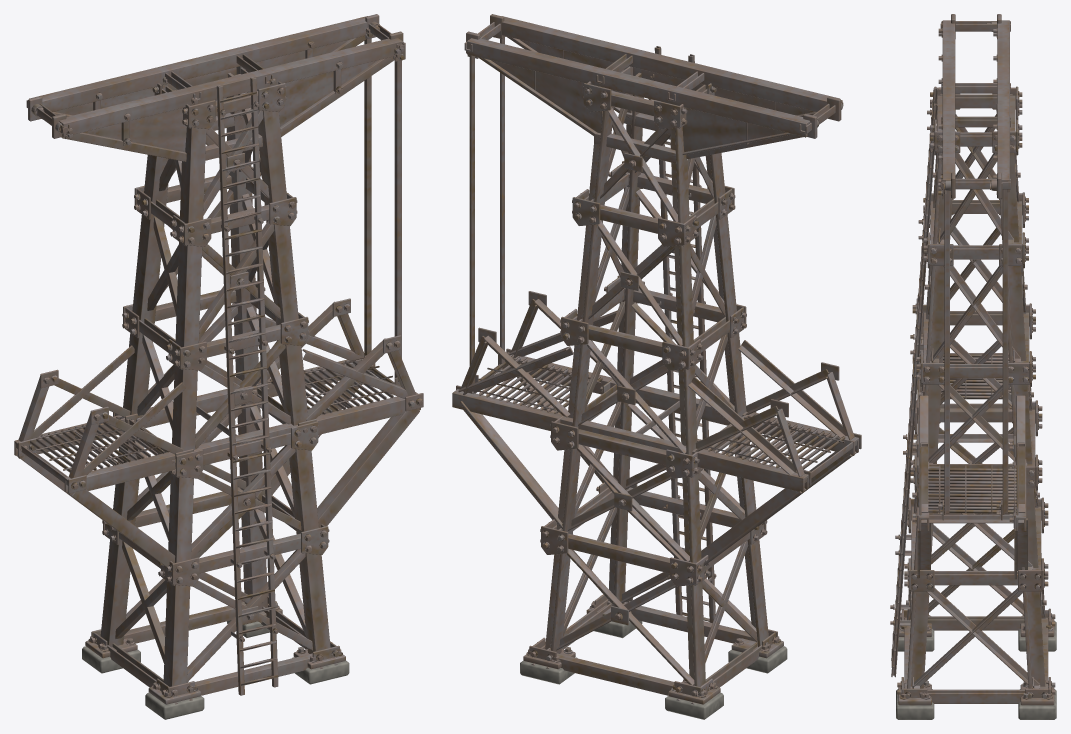
File: Tajia01_Tower_v01.fbx
3 views of the same model, side by side, from view 1: azimuth 30°, elevation 25°; view 2: azimuth 150°, elevation 25°; view 3: azimuth 270°, elevation 25° (orthographic). The views are drawn at different scales.
Visible parts, largest first — view 1: Tajia01_Tower_Standalone.016; view 2: Tajia01_Tower_Standalone.016; view 3: Tajia01_Tower_Standalone.016.
Part boxes in pixels (x1=…): Tajia01_Tower_Standalone.016: x1=14, y1=14, x2=423, y2=719; Tajia01_Tower_Standalone.016: x1=452, y1=14, x2=861, y2=719; Tajia01_Tower_Standalone.016: x1=890, y1=14, x2=1056, y2=719.
Size of the model in its own units: 63.82 by 104 by 26.86.
1 material, 1 textured.
